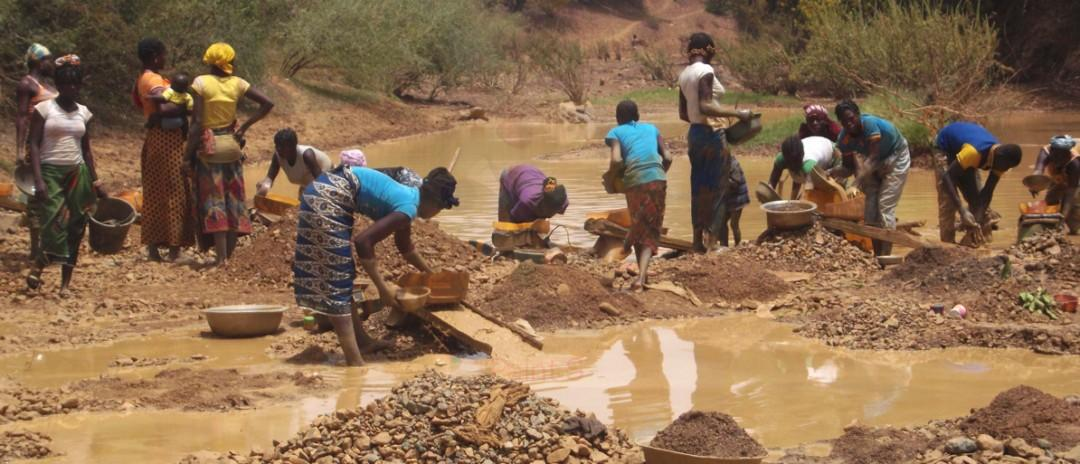MiningTool: (636, 437, 772, 464), (85, 196, 135, 256), (199, 301, 283, 334), (760, 199, 818, 229), (723, 111, 763, 147), (389, 286, 432, 316), (810, 163, 841, 196), (13, 160, 39, 194), (754, 181, 781, 203), (1021, 174, 1050, 191)
Person: (291, 163, 457, 374), (191, 41, 277, 266), (674, 31, 749, 256), (134, 38, 198, 263), (603, 98, 675, 294), (833, 97, 913, 260), (930, 118, 1023, 245), (17, 40, 62, 261), (769, 127, 853, 206), (499, 160, 569, 249), (257, 128, 335, 203), (1032, 133, 1080, 239), (339, 148, 429, 190), (145, 74, 195, 134), (794, 103, 847, 139)
ProcessingEquiment: (390, 267, 543, 361), (808, 190, 964, 256), (585, 205, 720, 263)
